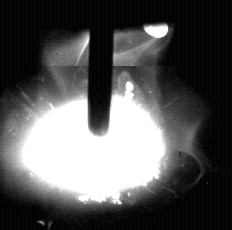arame: (88, 0, 111, 136)
poca: (21, 0, 167, 230)
